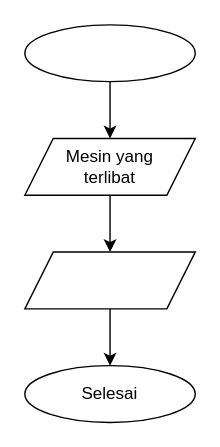
Some shapes in this 220 by 447 pixel diagram are drawn without their labels. Each missing label, with the centre of its shape:
Kapasitas mesin: [109,280]
Mulai: [109,52]
